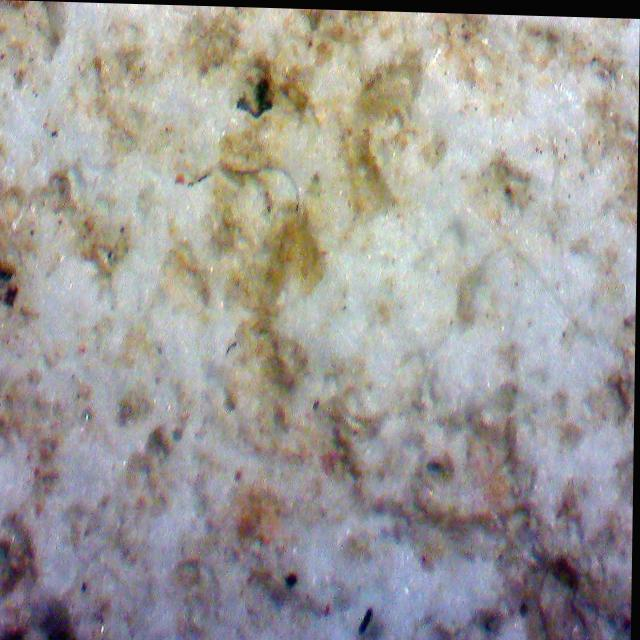microplastic: (190, 165, 301, 210)
